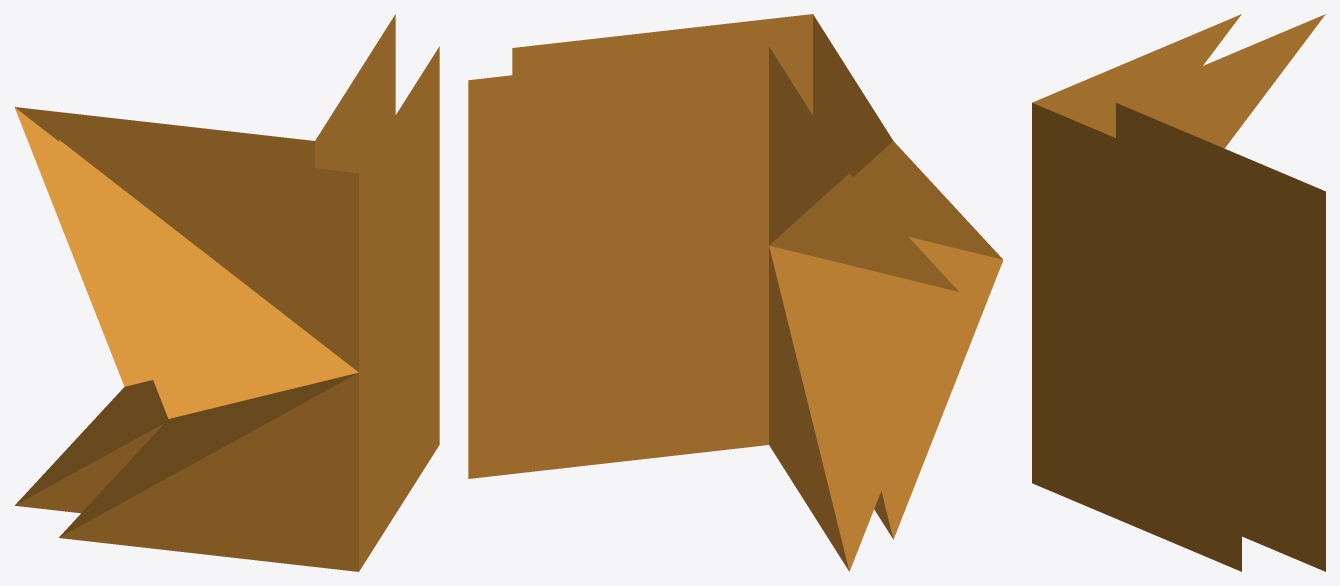
The model's file is HouseRoofTopTee.obj.
The picture shows the model from 3 angles, left to right: view 1: azimuth 30°, elevation 25°; view 2: azimuth 150°, elevation 25°; view 3: azimuth 270°, elevation 25°; orthographic projection. The views are drawn at different scales.
Parts seen in each view (by area): view 1: Untitled_ID2.002; view 2: Untitled_ID2.002; view 3: Untitled_ID2.002.
Boxes of the visible parts, <box> form: Untitled_ID2.002: <box>14,14,439,571</box>; Untitled_ID2.002: <box>468,14,1003,571</box>; Untitled_ID2.002: <box>1032,14,1325,571</box>.
Size of the model in its own units: 1 by 1 by 0.7.
